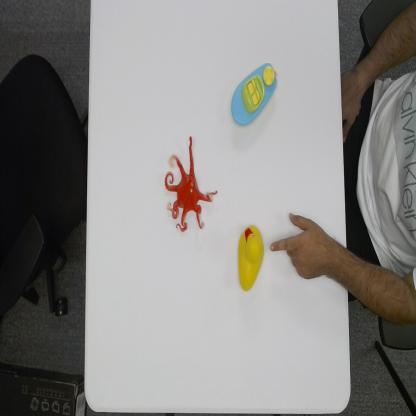Boat: (229, 59, 279, 128)
Duck: (236, 223, 266, 291)
Hand: (270, 210, 332, 283)
Octopus: (164, 134, 218, 234)
